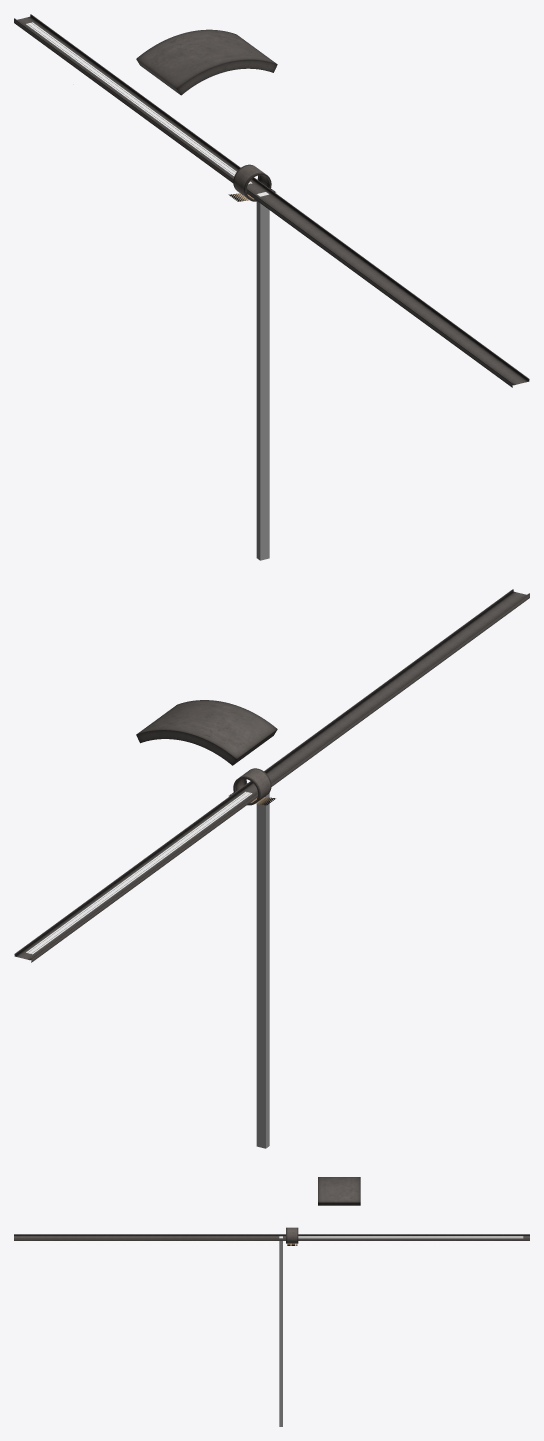
File: linkinpark2.glb
3 views of the same model, one above another, from view 1: azimuth 30°, elevation 25°; view 2: azimuth 150°, elevation 25°; view 3: azimuth 270°, elevation 25° (orthographic). The views are drawn at different scales.
Visible parts, largest first — view 1: RingTunnelArc, Construction, TrackMirror; view 2: RingTunnelArc, Construction, TrackMirror; view 3: RingTunnelArc, Construction, TrackMirror.
Part boxes in pixels (<box>): RingTunnelArc: <box>136,29,277,95</box>; Construction: <box>256,194,269,560</box>; TrackMirror: <box>26,22,252,184</box>; RingTunnelArc: <box>136,700,277,765</box>; Construction: <box>256,793,269,1148</box>; TrackMirror: <box>26,791,252,954</box>; RingTunnelArc: <box>318,1177,360,1205</box>; Construction: <box>279,1241,282,1426</box>; TrackMirror: <box>298,1236,523,1238</box>.
Size of the model in its own units: 32.61 by 145 by 280.
Materials: 14 (8 with a texture image).
